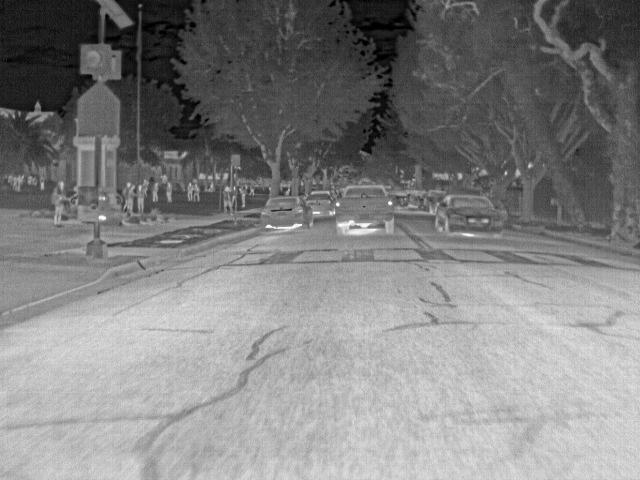car: (431, 194, 506, 237), (336, 183, 394, 235), (259, 196, 311, 232), (307, 190, 336, 216), (422, 189, 440, 211), (403, 191, 422, 209), (389, 191, 406, 208)
person: (52, 178, 66, 228), (135, 181, 148, 213), (222, 184, 234, 214), (237, 184, 250, 210), (121, 183, 133, 211), (148, 179, 161, 204), (164, 180, 176, 204), (185, 179, 194, 202), (193, 182, 202, 202)
